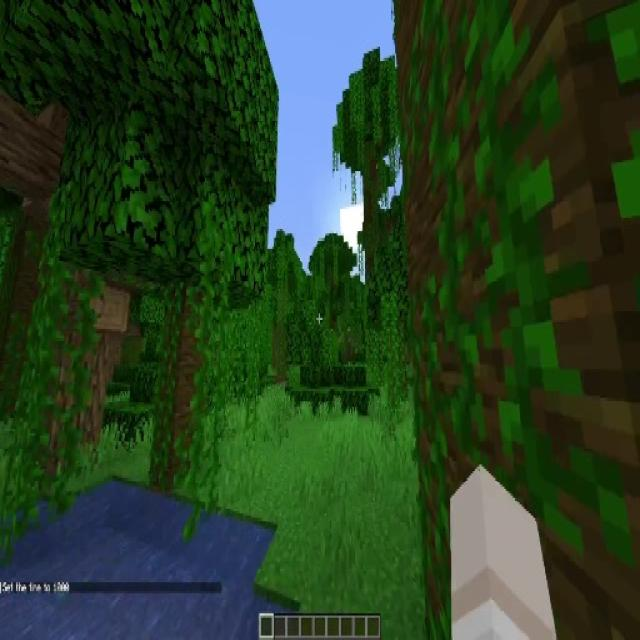jungle: (99, 129, 266, 487), (331, 41, 414, 316), (262, 230, 306, 378)
jungle_log: (401, 0, 640, 640), (156, 287, 201, 482)
